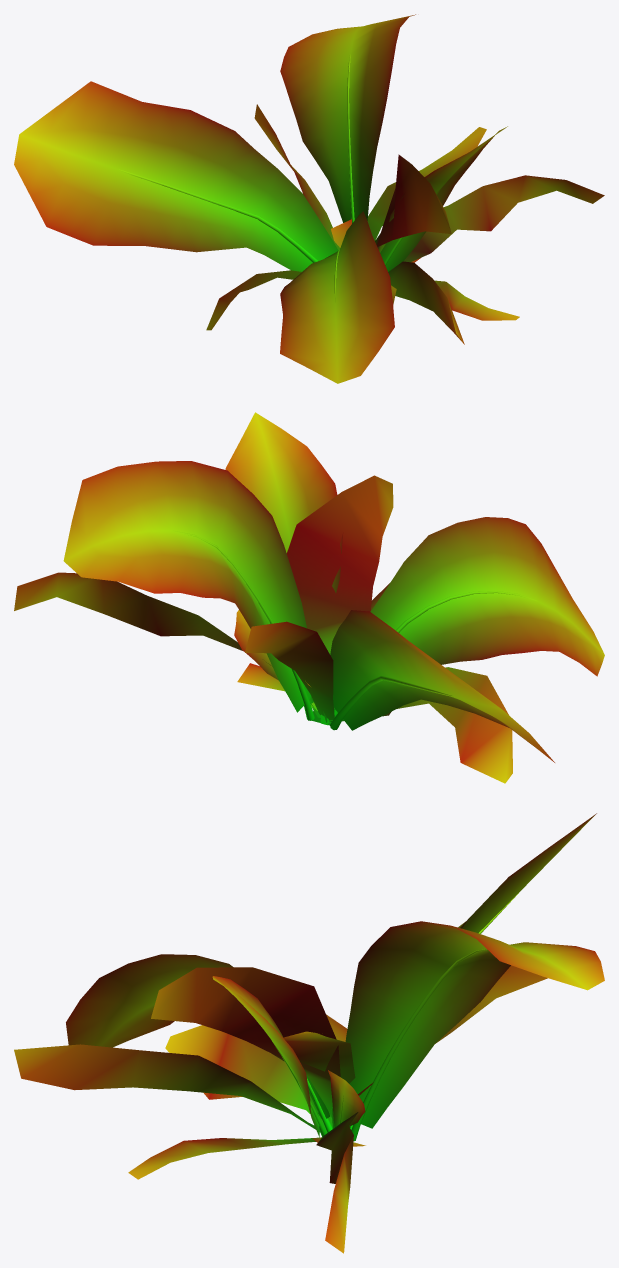
Rendered from Silver Lady Fern_LOD0_Var4_ubolejkia.fbx.
3 views of the same model, one above another, from view 1: azimuth 30°, elevation 25°; view 2: azimuth 150°, elevation 25°; view 3: azimuth 270°, elevation 25° (orthographic). The views are drawn at different scales.
Visible parts, largest first — view 1: _56d5_Var4_LOD0; view 2: _56d5_Var4_LOD0; view 3: _56d5_Var4_LOD0.
Boxes of the visible parts, x1=… form: _56d5_Var4_LOD0: x1=14, y1=14, x2=604, y2=383; _56d5_Var4_LOD0: x1=14, y1=412, x2=604, y2=783; _56d5_Var4_LOD0: x1=14, y1=813, x2=604, y2=1253.
Bounding box in the file's own units: 134 × 56.98 × 109.
